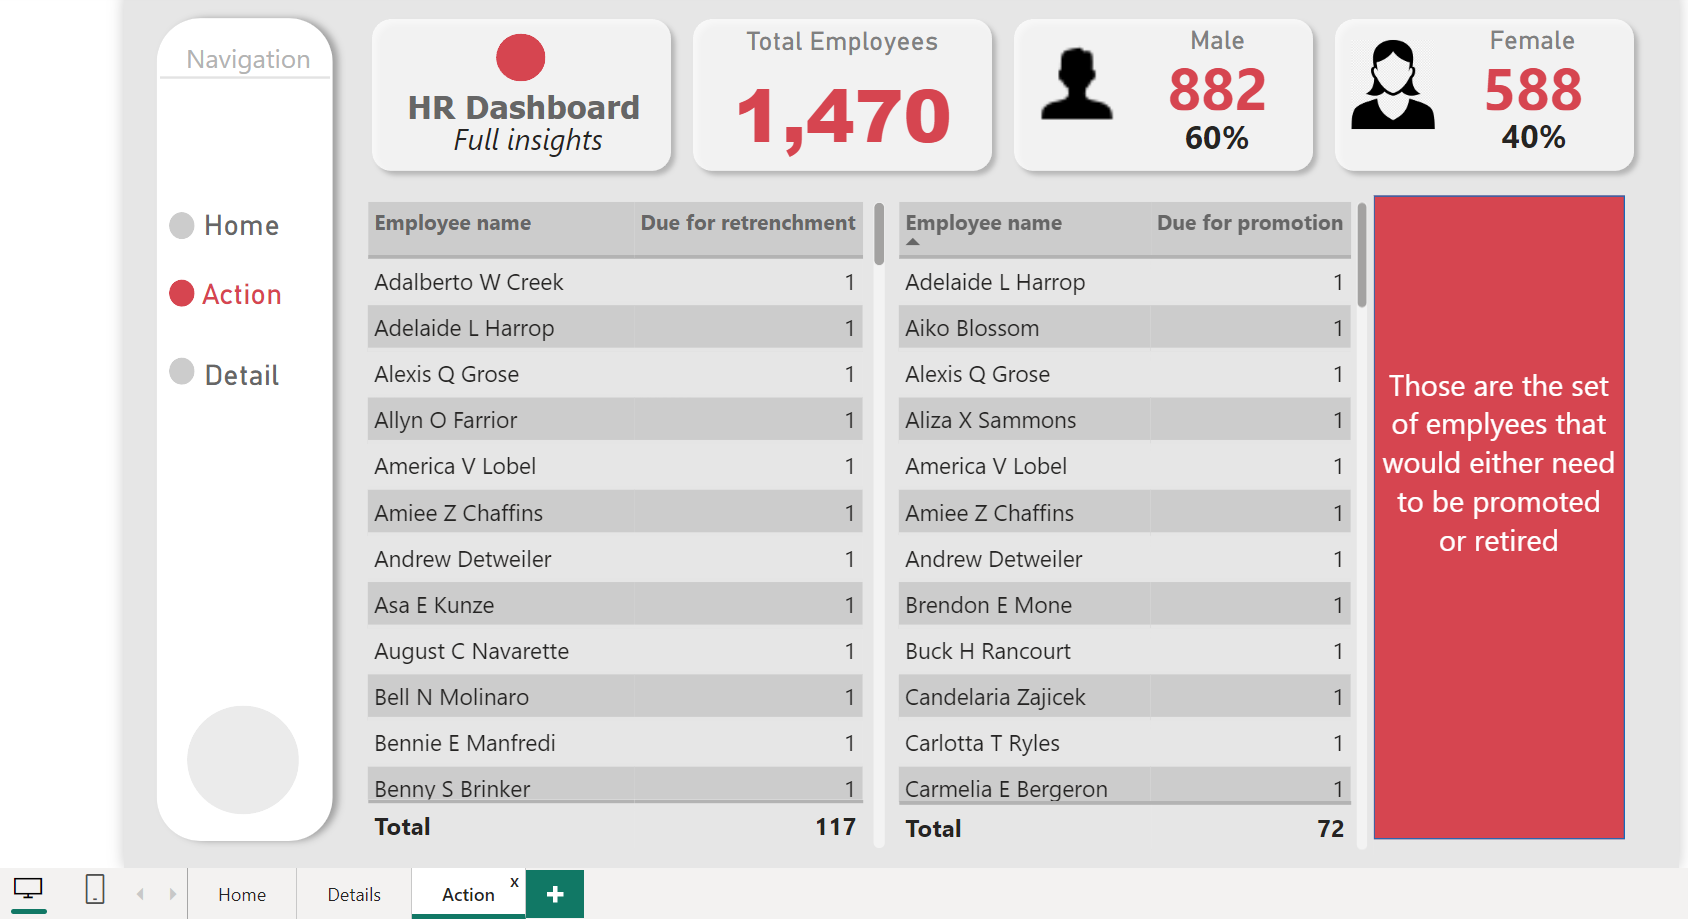

The dashboard page shown, as its layout file describes it:
{"tool":"powerbi","page":{"name":"Action","canvas":[1280,720],"ordinal":2},"visuals":[{"type":"shape","box":[1028.6,166.2,207,530.1],"z":0},{"type":"shape","box":[16.5,9.6,166.5,699.2],"z":1000},{"type":"shape","box":[195.4,12.4,264.3,143.1],"z":2000},{"type":"shape","box":[459.7,12.4,264.3,143.1],"z":3000},{"type":"shape","box":[724,12.4,264.3,143.1],"z":4000},{"type":"shape","box":[988.2,12.4,264.3,143.1],"z":5000},{"type":"textbox","box":[209.7,71.2,238.7,51.4],"z":6000},{"type":"textbox","box":[36.9,33,130.5,51.4],"z":7000},{"type":"textbox","box":[209.7,97.6,251.9,55.4],"z":8000},{"type":"shape","box":[305.9,33,40.9,39.6],"z":9000},{"type":"card","title":"Total Employees","fields":{"Values":["All Measures.Total Emp"]},"box":[468,27.5,246.4,112.9],"z":10000},{"type":"card","title":"Male","fields":{"Values":["All Measures.Male"]},"box":[814.8,26.2,170.7,75.7],"z":11000},{"type":"card","fields":{"Values":["All Measures.Male %"]},"box":[834.1,90.8,132.1,55.1],"z":12000},{"type":"card","title":"Female","fields":{"Values":["All Measures.Female"]},"box":[1068.7,26.2,183.1,75.7],"z":13000},{"type":"card","fields":{"Values":["All Measures.Female %"]},"box":[1083.9,90.8,152.8,53.7],"z":14000},{"type":"image","box":[736.3,26.2,95,90.8],"z":15000},{"type":"image","box":[1004.7,33,79.8,84],"z":16000},{"type":"tableEx","fields":{"Values":["HR employee data.Emplyee name","All Measures.Due for retirment"]},"box":[195.4,166.5,436.3,542.3],"z":17000},{"type":"tableEx","fields":{"Values":["HR employee data.Emplyee name","All Measures.Due for promotion"]},"box":[631.7,166.5,396.4,543.7],"z":18000},{"type":"textbox","box":[1029.3,299.6,206.6,217.4],"z":19000},{"type":"shape","box":[36.9,300.7,21.1,22.4],"z":20000},{"type":"actionButton","title":"Detail","box":[27.7,300.7,139.8,58],"z":21000},{"type":"shape","box":[36.9,236,21.1,22.4],"z":22000},{"type":"actionButton","title":"Action","box":[27.7,233.4,139.8,65.9],"z":23000},{"type":"shape","box":[36.9,180.7,21.1,22.4],"z":24000},{"type":"actionButton","title":"Home","box":[27.7,176.7,139.8,56.7],"z":25000},{"type":"shape","box":[51.4,586.8,92.3,89.7],"z":26000},{"type":"shape","box":[30.2,61.6,140.1,15.7],"z":27000}]}

Visuals, with their boxes on the page's 1280x720 design canvas (x1, y1, x2, y2). These are canvas units, not pixel positions in the 1688x919 screenshot, which may show the page scaled, cropped or inside an application window:
shape: Rect(1029, 166, 1236, 696)
shape: Rect(16, 10, 183, 709)
shape: Rect(195, 12, 460, 156)
shape: Rect(460, 12, 724, 156)
shape: Rect(724, 12, 988, 156)
shape: Rect(988, 12, 1252, 156)
textbox: Rect(210, 71, 448, 123)
textbox: Rect(37, 33, 167, 84)
textbox: Rect(210, 98, 462, 153)
shape: Rect(306, 33, 347, 73)
"Total Employees" card: Rect(468, 28, 714, 140)
"Male" card: Rect(815, 26, 986, 102)
card - All Measures.Male %: Rect(834, 91, 966, 146)
"Female" card: Rect(1069, 26, 1252, 102)
card - All Measures.Female %: Rect(1084, 91, 1237, 144)
image: Rect(736, 26, 831, 117)
image: Rect(1005, 33, 1084, 117)
tableEx - HR employee data.Emplyee name x All Measures.Due for retirment: Rect(195, 166, 632, 709)
tableEx - HR employee data.Emplyee name x All Measures.Due for promotion: Rect(632, 166, 1028, 710)
textbox: Rect(1029, 300, 1236, 517)
shape: Rect(37, 301, 58, 323)
"Detail" actionButton: Rect(28, 301, 168, 359)
shape: Rect(37, 236, 58, 258)
"Action" actionButton: Rect(28, 233, 168, 299)
shape: Rect(37, 181, 58, 203)
"Home" actionButton: Rect(28, 177, 168, 233)
shape: Rect(51, 587, 144, 676)
shape: Rect(30, 62, 170, 77)
